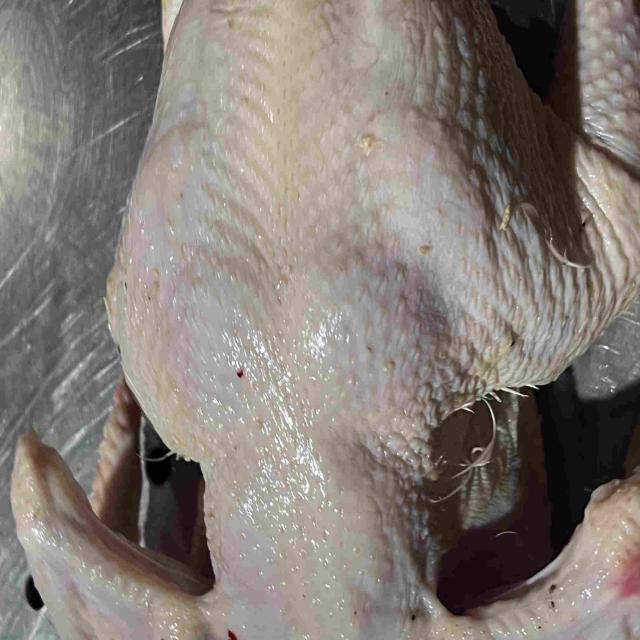back: (107, 0, 454, 422)
leg: (445, 0, 640, 396), (160, 0, 184, 52)
wing: (8, 382, 254, 640), (421, 408, 640, 640)
